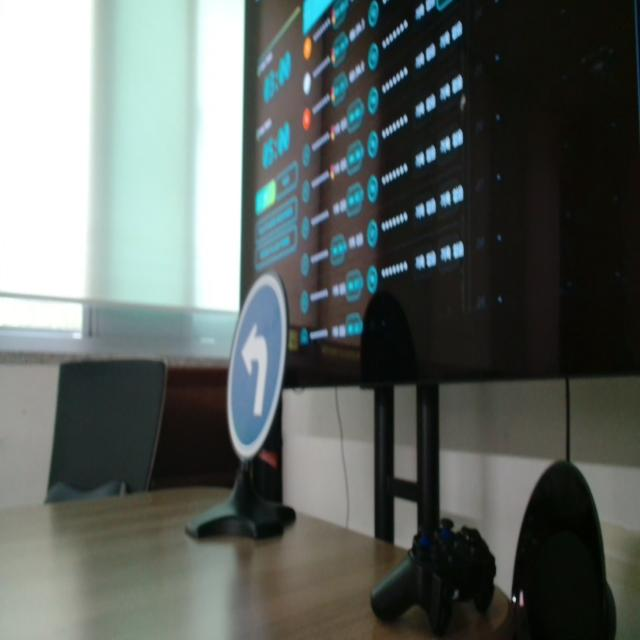left_direction: (225, 266, 288, 464)
